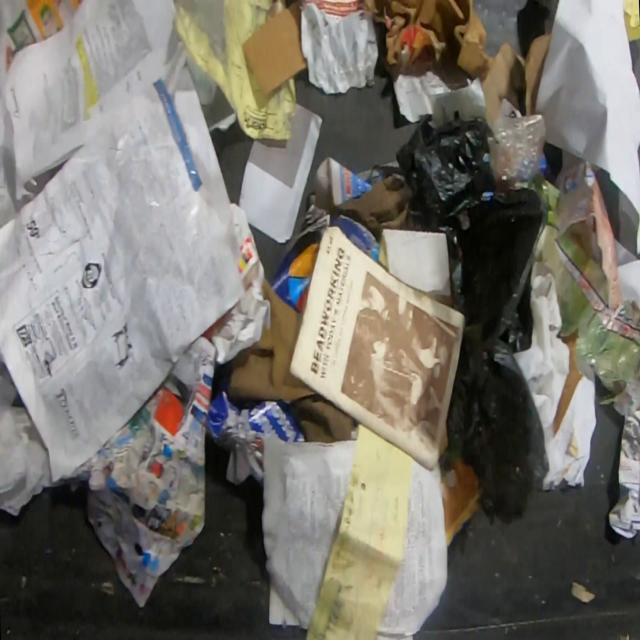cardboard: (531, 158, 640, 405), (362, 0, 553, 119), (227, 279, 354, 444), (336, 173, 415, 244)
soft_plastic: (395, 114, 550, 524), (486, 114, 545, 190)
